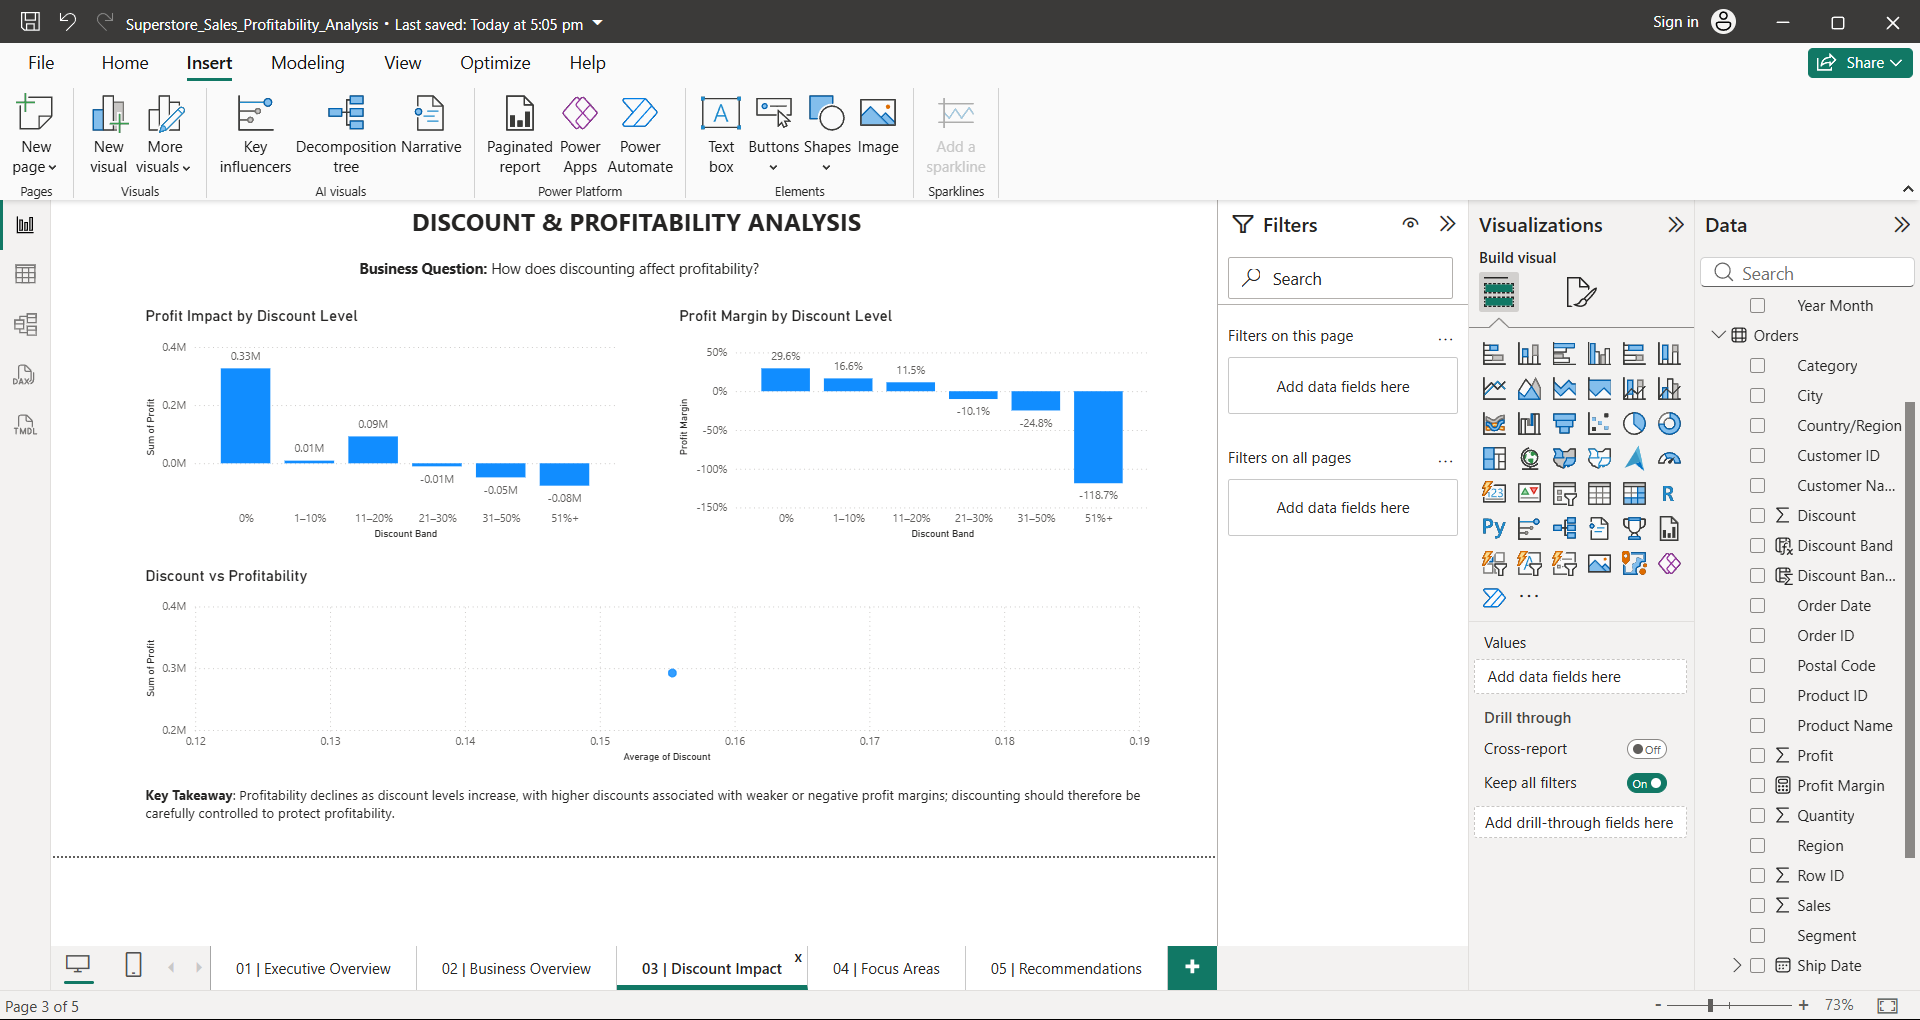

This screenshot's page, from the dashboard's own definition file:
{"tool":"powerbi","page":{"name":"03 | Discount Impact","canvas":[1280,720],"ordinal":2},"visuals":[{"type":"textbox","box":[391.1,0,551.6,59],"z":0},{"type":"textbox","box":[333.4,59,548.9,34.3],"z":1},{"type":"clusteredColumnChart","title":"Profit Impact by Discount Level","fields":{"Category":["Orders.Discount Band"],"Y":["Sum(Orders.Profit)"]},"box":[98.8,116.6,526.9,260.7],"z":2},{"type":"clusteredColumnChart","title":"Profit Margin by Discount Level","fields":{"Category":["Orders.Discount Band"],"Y":["Orders.Profit Margin"]},"box":[684.7,116.6,526,260.7],"z":3},{"type":"scatterChart","title":"Discount vs Profitability","fields":{"X":["Avg(Orders.Discount)"],"Y":["Sum(Orders.Profit)"]},"box":[98.8,402.1,1112.9,219.6],"z":4},{"type":"textbox","box":[98.8,638.1,1112.9,70],"z":5}]}

Visuals, with their boxes on the page's 1280x720 design canvas (x1, y1, x2, y2). These are canvas units, not pixel positions in the 1920x1020 screenshot, which may show the page scaled, cropped or inside an application window:
textbox: (391, 0, 943, 59)
textbox: (333, 59, 882, 93)
"Profit Impact by Discount Level" clusteredColumnChart: (99, 117, 626, 377)
"Profit Margin by Discount Level" clusteredColumnChart: (685, 117, 1211, 377)
"Discount vs Profitability" scatterChart: (99, 402, 1212, 622)
textbox: (99, 638, 1212, 708)
